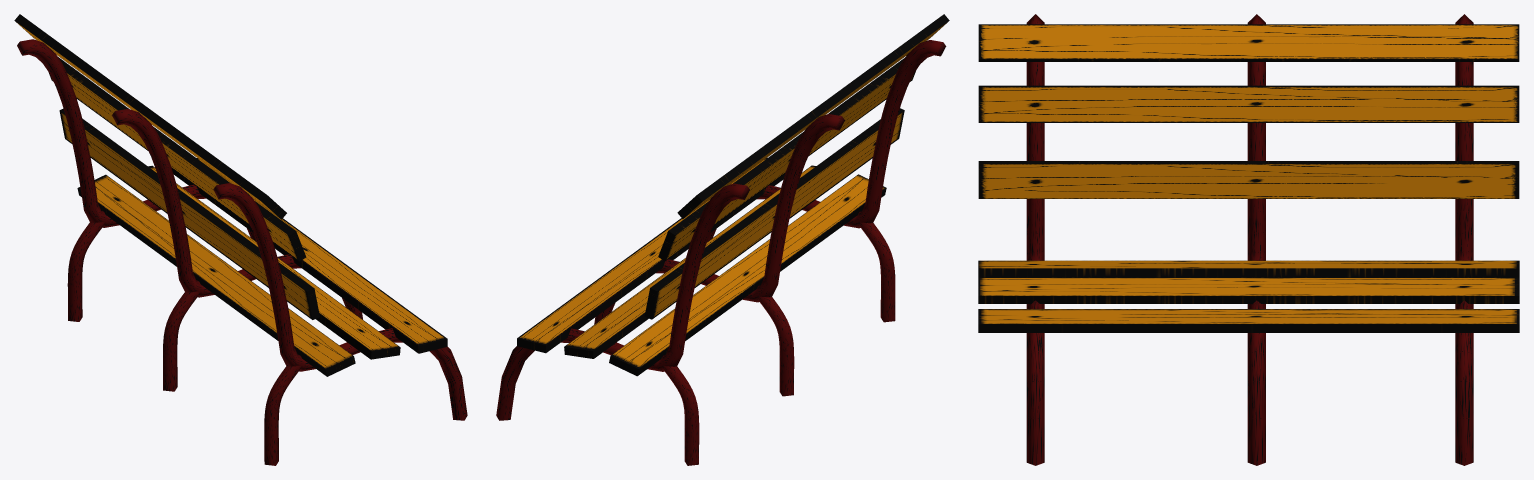
Rendered from bench.obj.
3 renders of one model, left to right at view 1: azimuth 30°, elevation 25°; view 2: azimuth 150°, elevation 25°; view 3: azimuth 270°, elevation 25°, orthographic. The views are drawn at different scales.
Visible parts, largest first — view 1: Bench; view 2: Bench; view 3: Bench.
Part boxes in pixels (bbox=[...]): Bench: bbox=[14, 14, 467, 465]; Bench: bbox=[496, 14, 949, 465]; Bench: bbox=[978, 14, 1519, 465].
Bounding box in the file's own units: 4.17 × 4.68 × 7.13.
